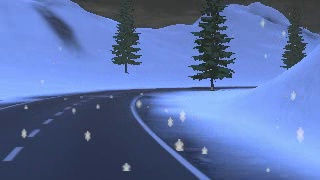Lane: (0, 87, 212, 179)
